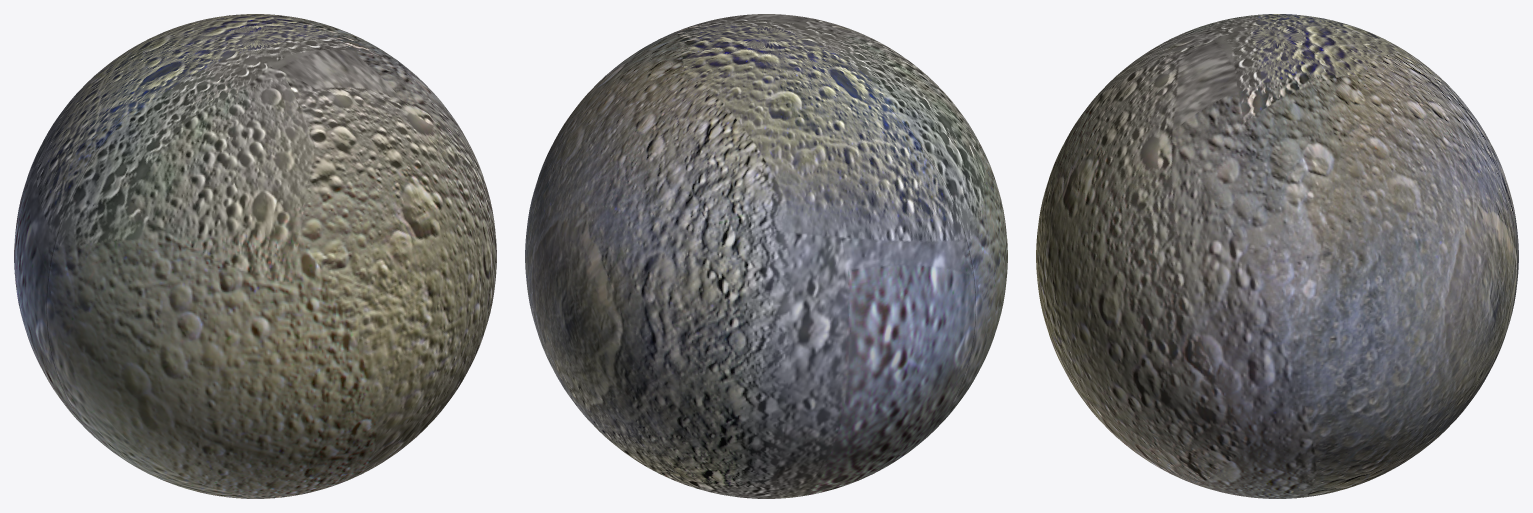
File: mimas.glb
3 renders of one model, left to right at view 1: azimuth 30°, elevation 25°; view 2: azimuth 150°, elevation 25°; view 3: azimuth 270°, elevation 25°, orthographic.
Visible parts, largest first — view 1: Sphere_0; view 2: Sphere_0; view 3: Sphere_0.
Part boxes in pixels (x1,y1,x2,y2): Sphere_0: (14, 14, 496, 498); Sphere_0: (525, 14, 1007, 498); Sphere_0: (1036, 14, 1518, 498).
Size of the model in its own units: 1.99 by 2 by 1.99.
1 material, 1 textured.
